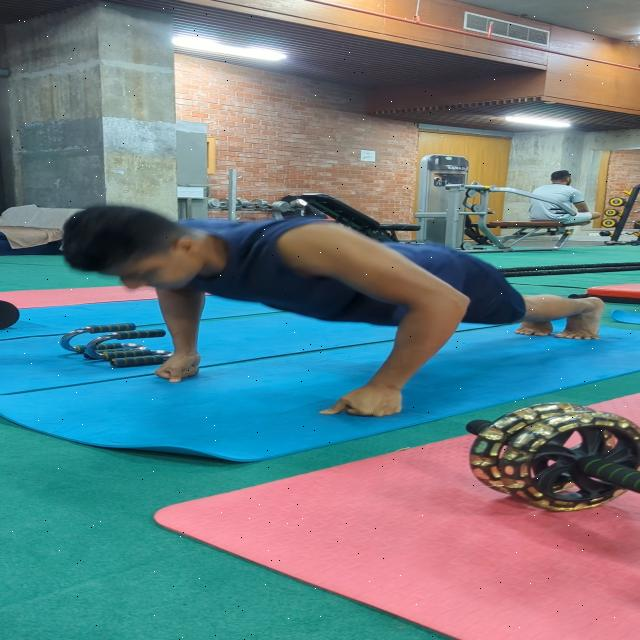Normal_PushUps: (44, 206, 610, 422)
